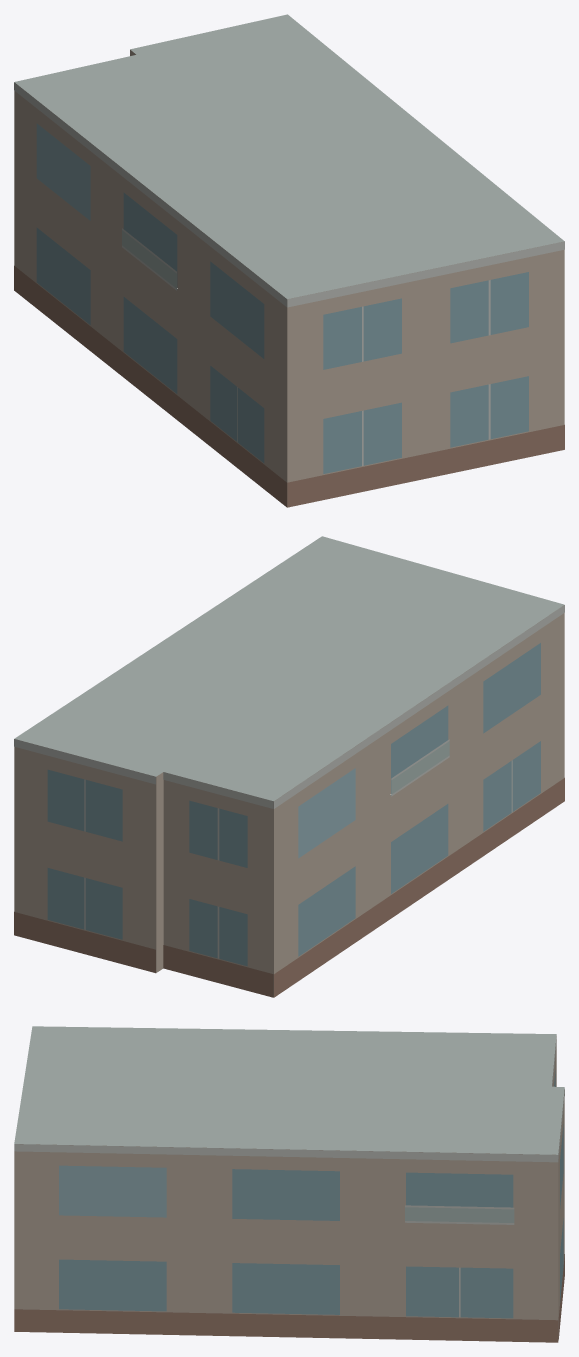
The model's file is survey-upis-32827169.glb.
3 views of the same model, one above another, from view 1: azimuth 30°, elevation 25°; view 2: azimuth 150°, elevation 25°; view 3: azimuth 270°, elevation 25° (orthographic). The views are drawn at different scales.
Parts seen in each view (by area): view 1: survey-upis-32827169.tmp; view 2: survey-upis-32827169.tmp; view 3: survey-upis-32827169.tmp.
Part boxes in pixels (left/top/right/bottom): survey-upis-32827169.tmp: left=14, top=14, right=564, bottom=507; survey-upis-32827169.tmp: left=14, top=536, right=564, bottom=997; survey-upis-32827169.tmp: left=14, top=1026, right=564, bottom=1342.
Bounding box in the file's own units: 8.97 × 6.1 × 16.22.
